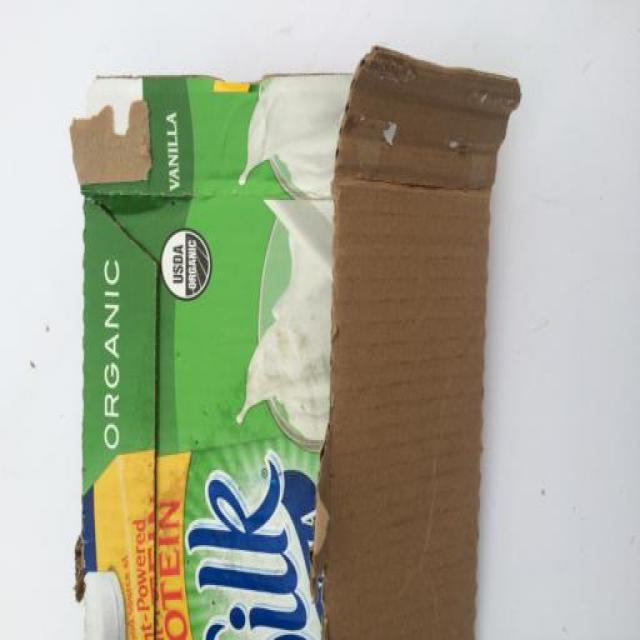cardboard: (60, 35, 531, 640)
